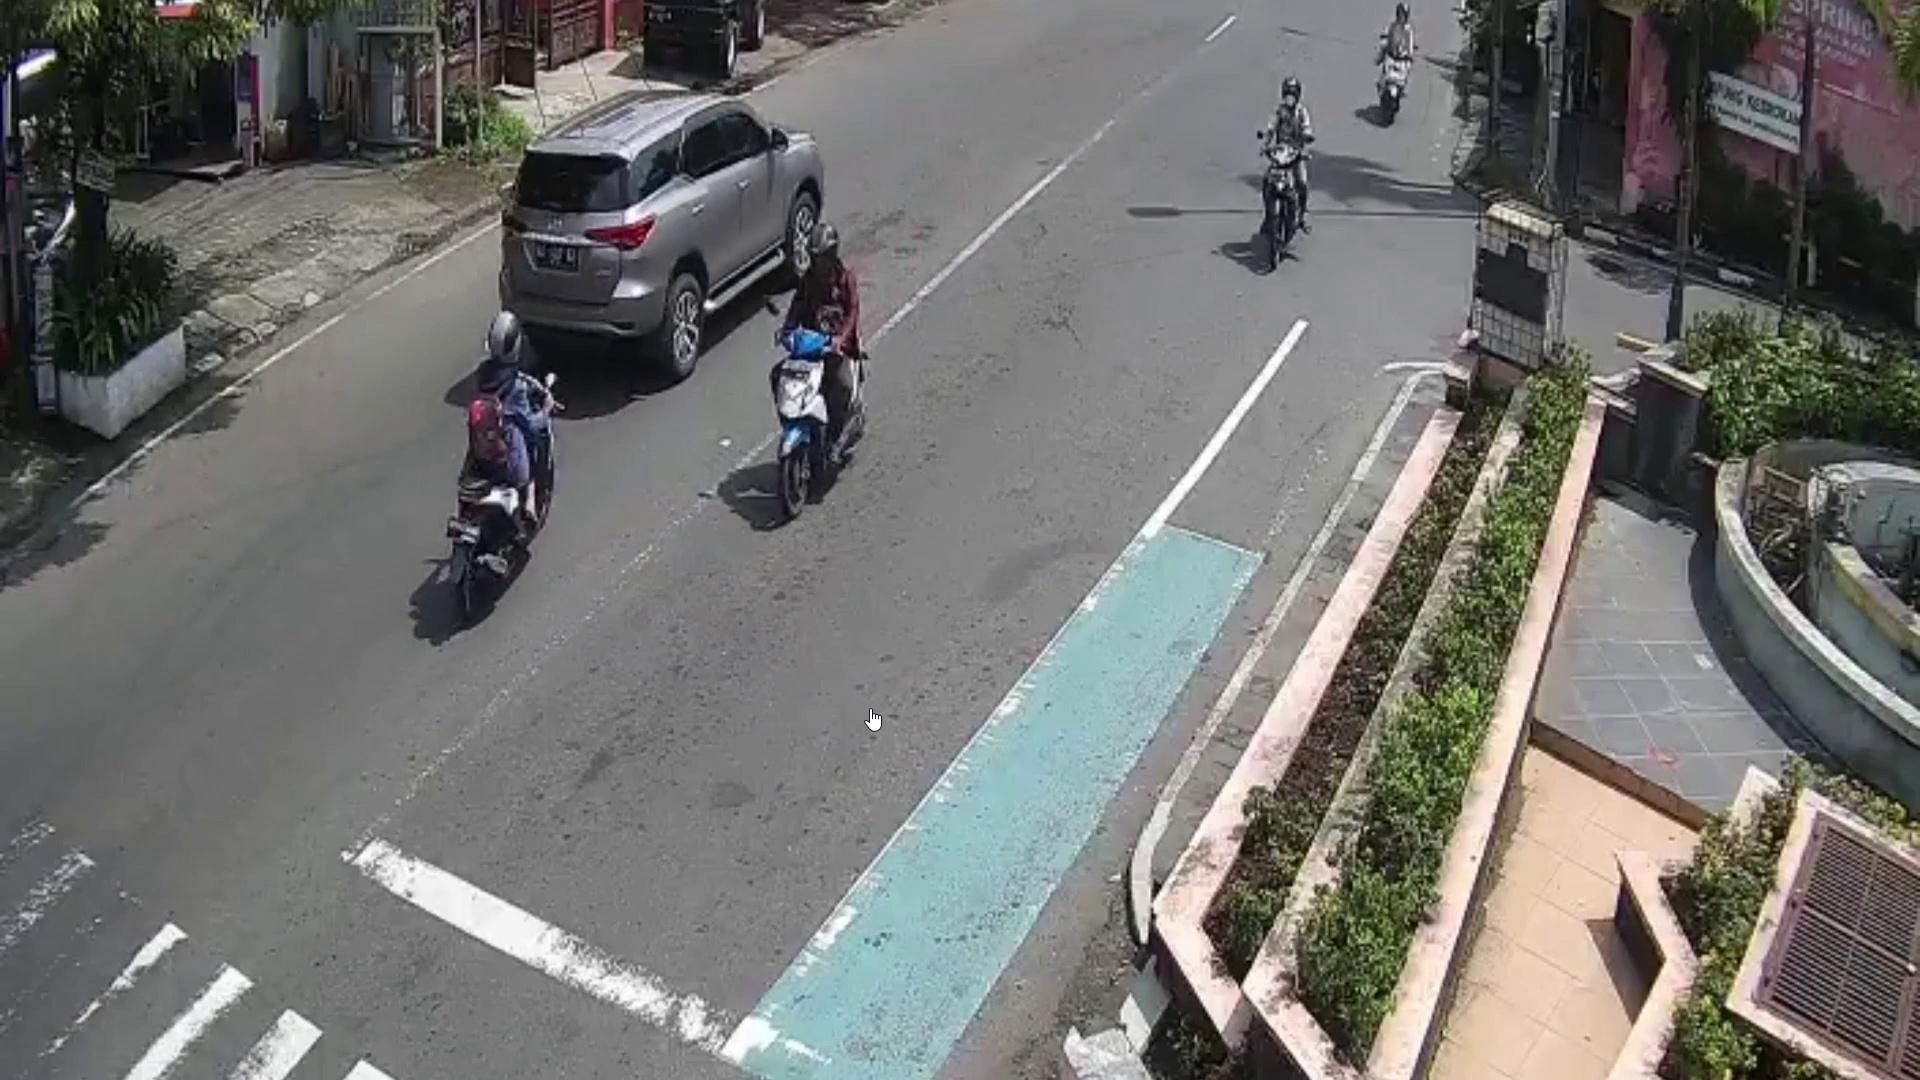car: (501, 92, 824, 378)
motorbike: (447, 371, 555, 620), (775, 327, 866, 524), (1257, 145, 1299, 285), (1375, 40, 1414, 127)
